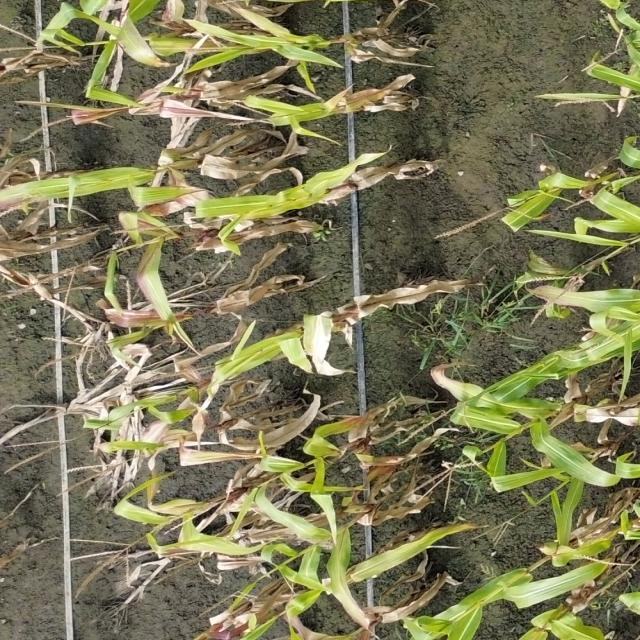northern-leaf-blight: (326, 522, 468, 584), (99, 234, 176, 333)
